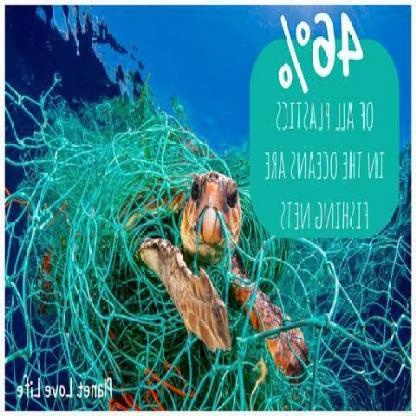net: (9, 100, 256, 407)
